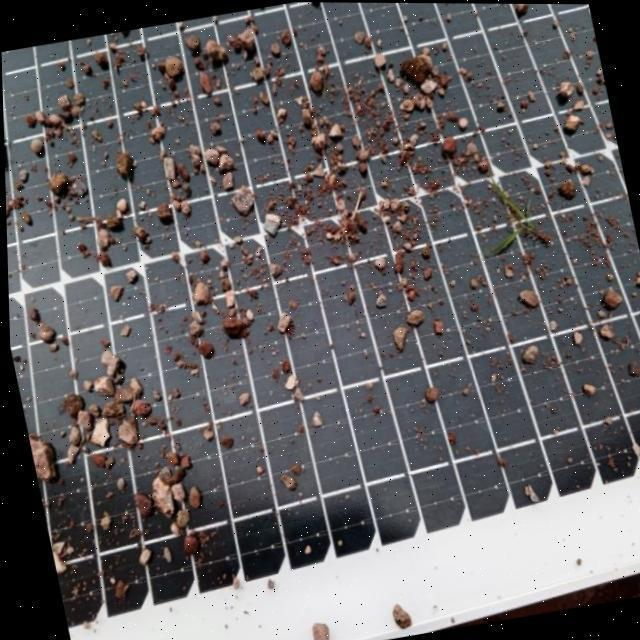Surface Contaminant: (1, 2, 640, 640)
